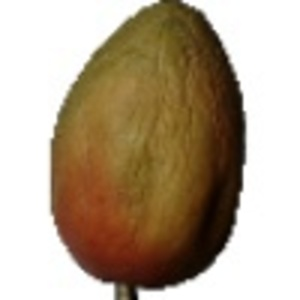mamão: (20, 3, 250, 286)
